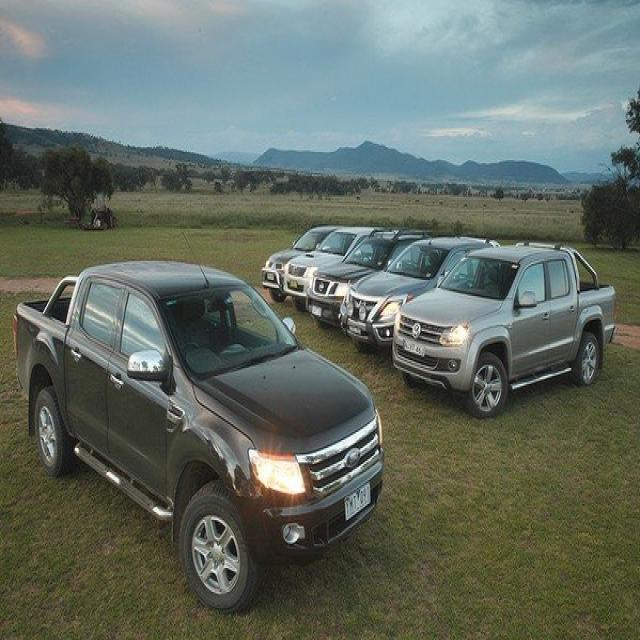Pickup Trucks: (11, 262, 383, 620), (393, 243, 620, 419)
